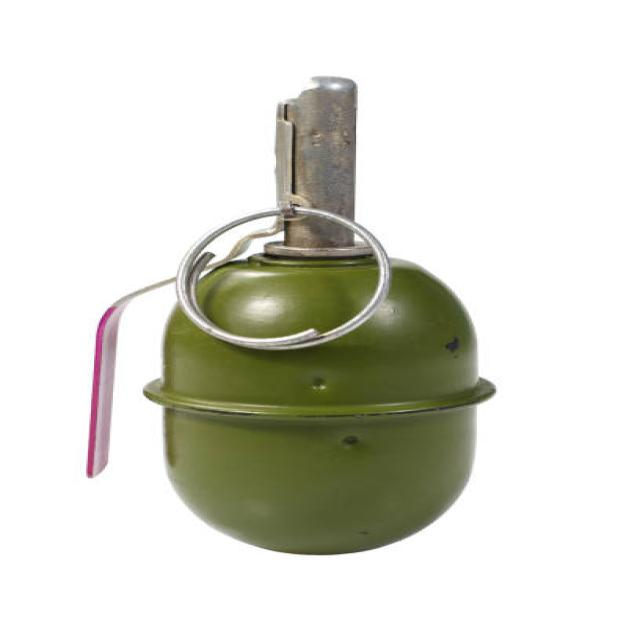grenade: (69, 70, 506, 563)
